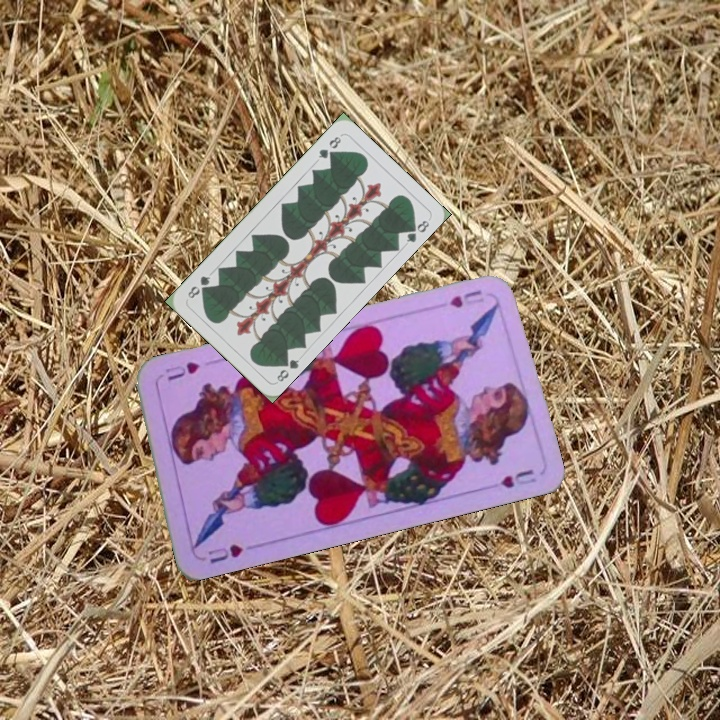G8: (272, 353, 302, 385), (314, 132, 344, 161)
HU: (199, 540, 246, 567), (445, 286, 487, 311)
